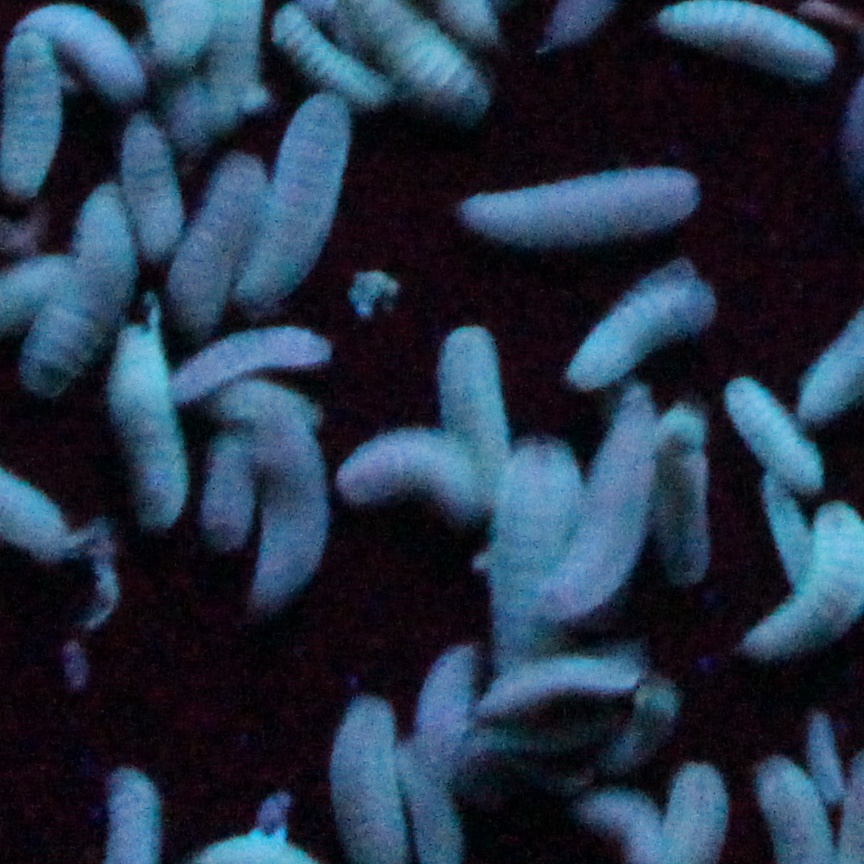larve: (233, 86, 349, 312), (27, 166, 130, 393), (558, 261, 732, 393), (96, 316, 194, 547), (428, 314, 522, 528), (703, 358, 844, 496), (463, 167, 715, 244), (502, 437, 579, 662), (329, 424, 497, 526), (581, 383, 649, 623), (643, 384, 715, 599), (256, 405, 331, 611), (321, 697, 410, 863), (169, 312, 339, 397), (177, 157, 262, 296), (469, 655, 650, 715), (116, 110, 185, 256), (207, 422, 257, 550)
